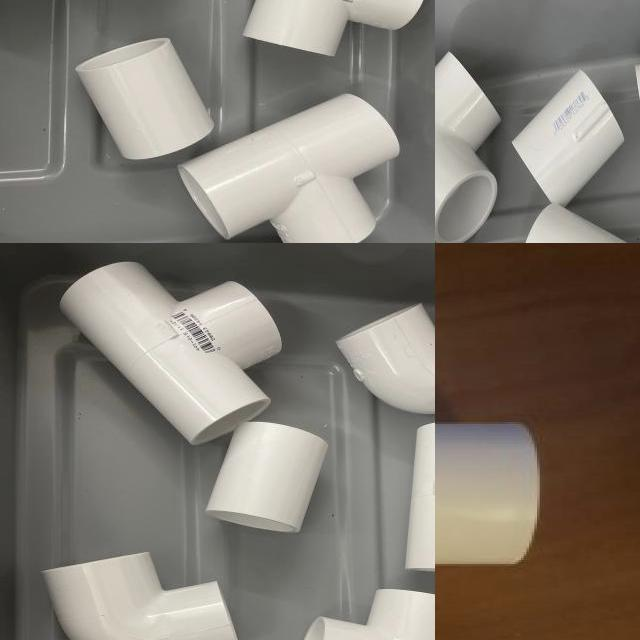L Joint: (41, 552, 240, 640), (435, 53, 502, 243), (334, 304, 435, 415), (304, 589, 435, 640)
T Joint: (58, 262, 278, 446), (177, 94, 400, 243), (241, 0, 425, 59)
